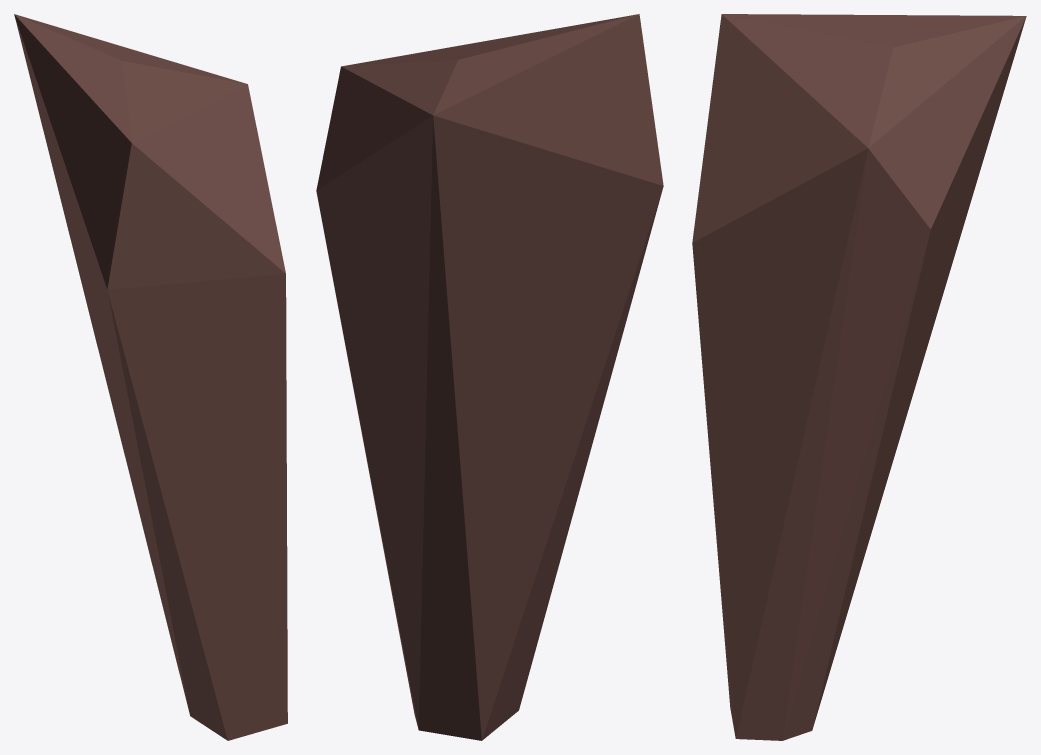
Rendered from CommonTree_Dead_4.lod4.glb.
The picture shows the model from 3 angles, left to right: view 1: azimuth 30°, elevation 25°; view 2: azimuth 150°, elevation 25°; view 3: azimuth 270°, elevation 25°; orthographic projection. The views are drawn at different scales.
Parts seen in each view (by area): view 1: CommonTree_Dead_4; view 2: CommonTree_Dead_4; view 3: CommonTree_Dead_4.
Part boxes in pixels (x1,y1,x2,y2): CommonTree_Dead_4: (14,14,287,740); CommonTree_Dead_4: (316,14,663,740); CommonTree_Dead_4: (692,14,1026,740).
Bounding box in the file's own units: 0.812 × 2.36 × 1.09.
